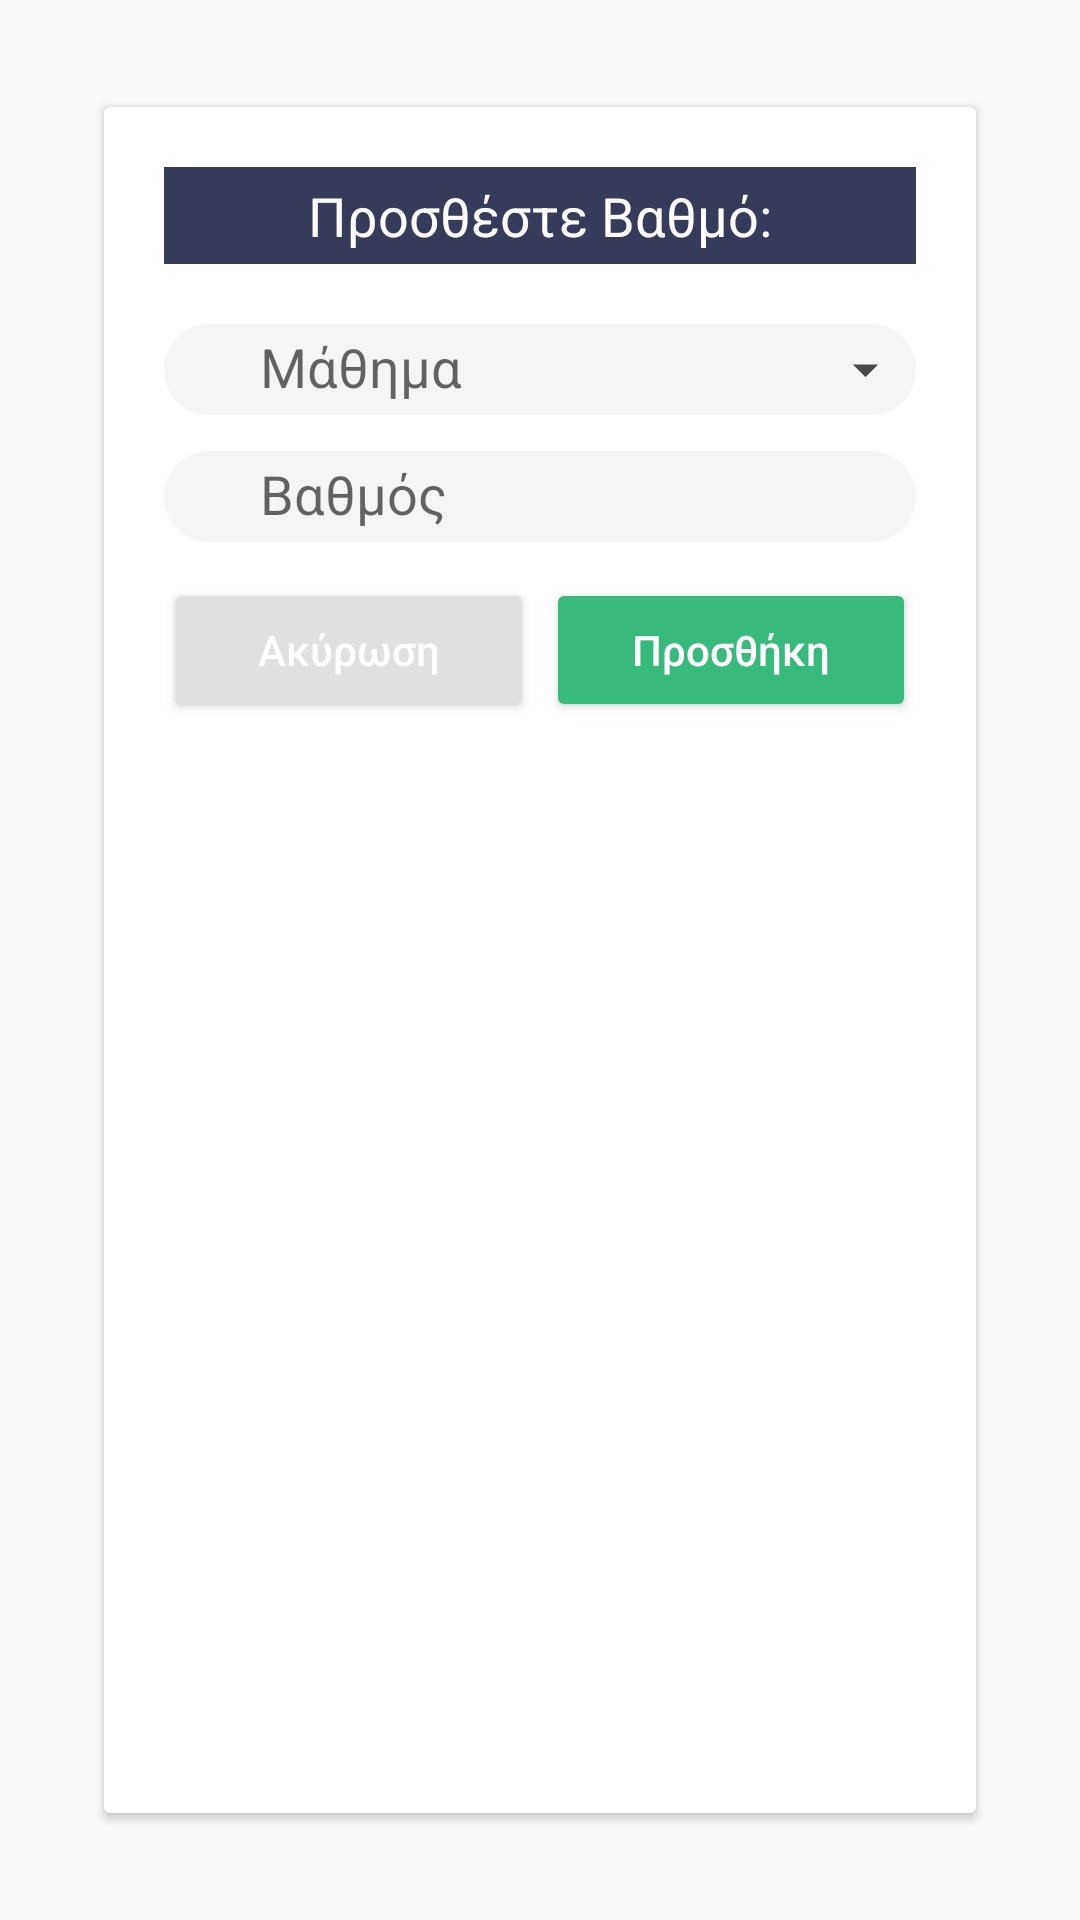

Where icons sit on this 1080x1920 app screen, as (x1, y1, x2, y2):
arrow drop down: (853, 364, 878, 377)
